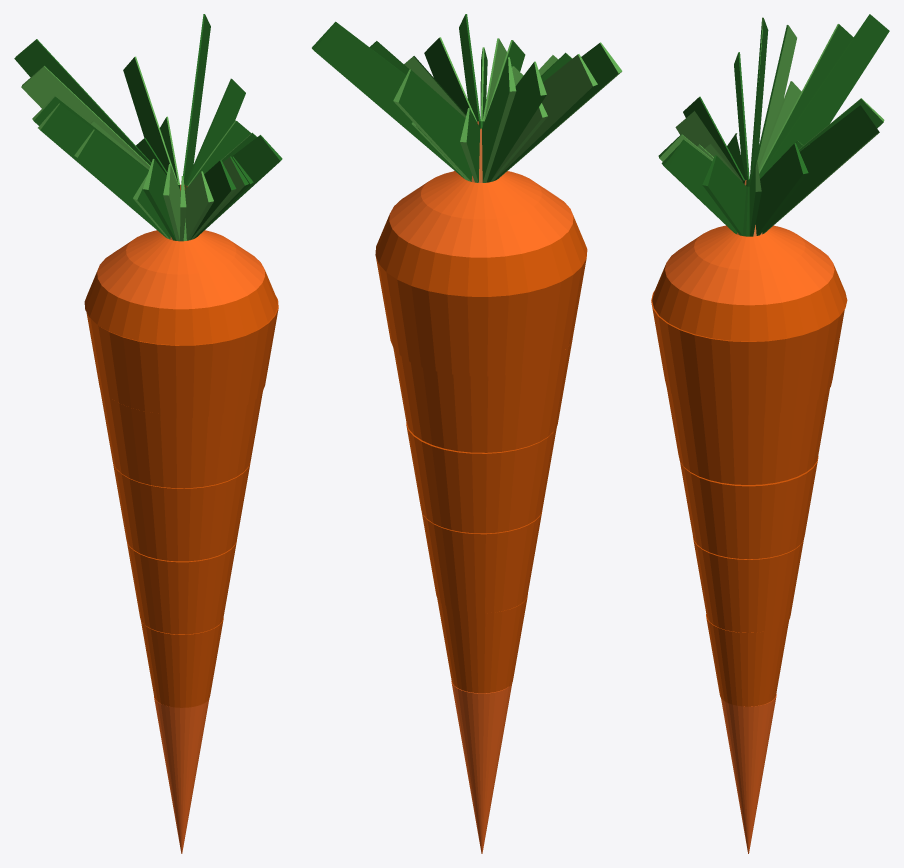
Rendered from Carrot.fbx.
3 views of the same model, side by side, from view 1: azimuth 30°, elevation 25°; view 2: azimuth 150°, elevation 25°; view 3: azimuth 270°, elevation 25° (orthographic). The views are drawn at different scales.
Parts seen in each view (by area): view 1: Cylinder.001, Cylinder.002, Cylinder.003, Cylinder.004, Cylinder.005, Cylinder.006, Cylinder.007; view 2: Cylinder.001, Cylinder.002, Cylinder.003, Cylinder.004, Cylinder.005, Cylinder.006, Cylinder.007; view 3: Cylinder.001, Cylinder.002, Cylinder.003, Cylinder.004, Cylinder.005, Cylinder.006, Cylinder.007.
Boxes of the visible parts, x1,y1,x2,y2 form: Cylinder.001: (14, 14, 282, 345); Cylinder.002: (86, 296, 278, 418); Cylinder.003: (100, 389, 262, 488); Cylinder.004: (113, 462, 250, 561); Cylinder.005: (127, 540, 236, 634); Cylinder.006: (141, 618, 223, 707); Cylinder.007: (154, 697, 209, 853); Cylinder.001: (312, 14, 622, 296); Cylinder.002: (376, 247, 587, 376); Cylinder.003: (393, 339, 572, 452); Cylinder.004: (406, 423, 556, 533); Cylinder.005: (421, 510, 542, 613); Cylinder.006: (437, 594, 527, 693); Cylinder.007: (451, 681, 512, 853); Cylinder.001: (652, 14, 889, 341); Cylinder.002: (651, 291, 844, 415); Cylinder.003: (666, 387, 829, 484); Cylinder.004: (680, 456, 818, 559); Cylinder.005: (693, 537, 803, 632); Cylinder.006: (706, 614, 788, 706); Cylinder.007: (721, 694, 776, 853).
Bounding box in the file's own units: 6552 × 21792 × 5910.
